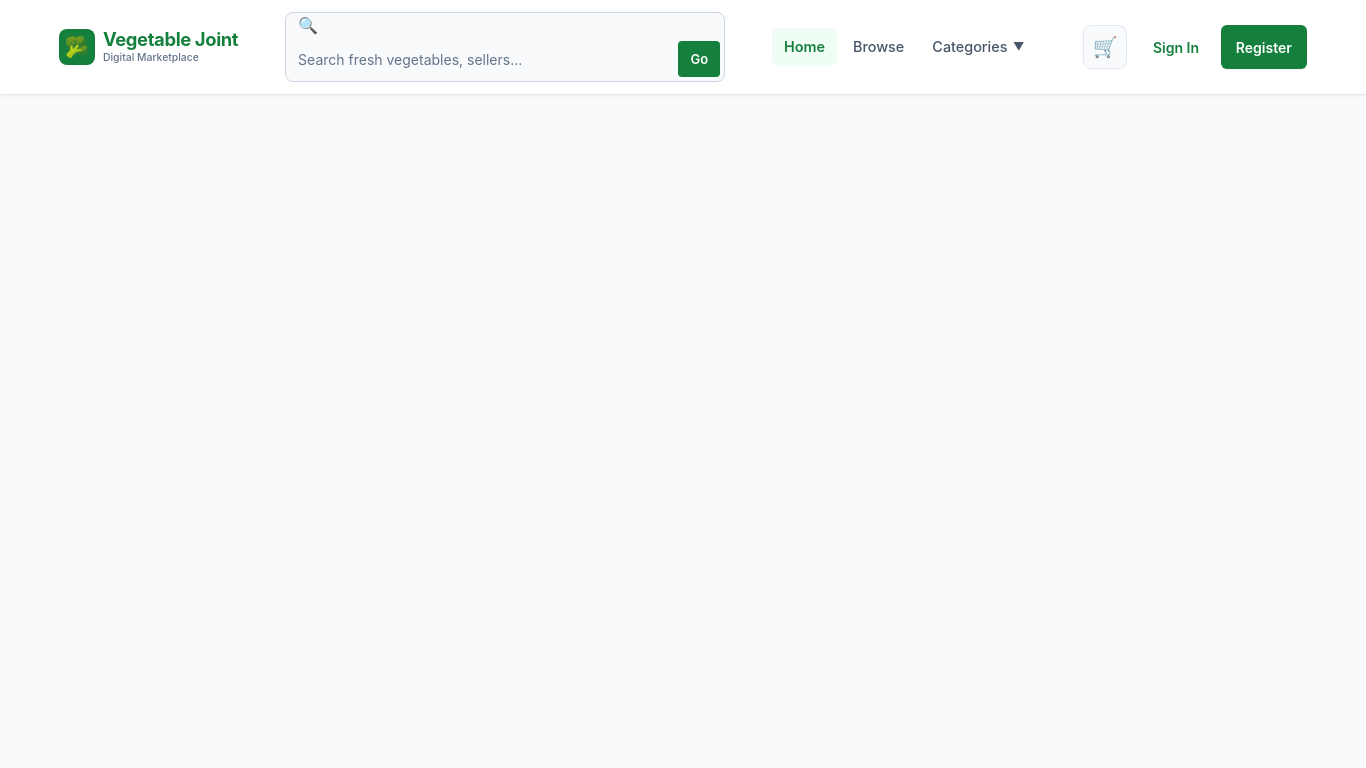
Test case: Navbar Component (FE-022, UI-01, UI-07, CART-07) › Brand, Navigation & Accessibility (UI-01) › toggles category dropdown on click and displays category items
Check: the text "Fresh Categories" is not shown
Click the button "Categories ▼" at (978, 47), box [920, 30, 1036, 64]
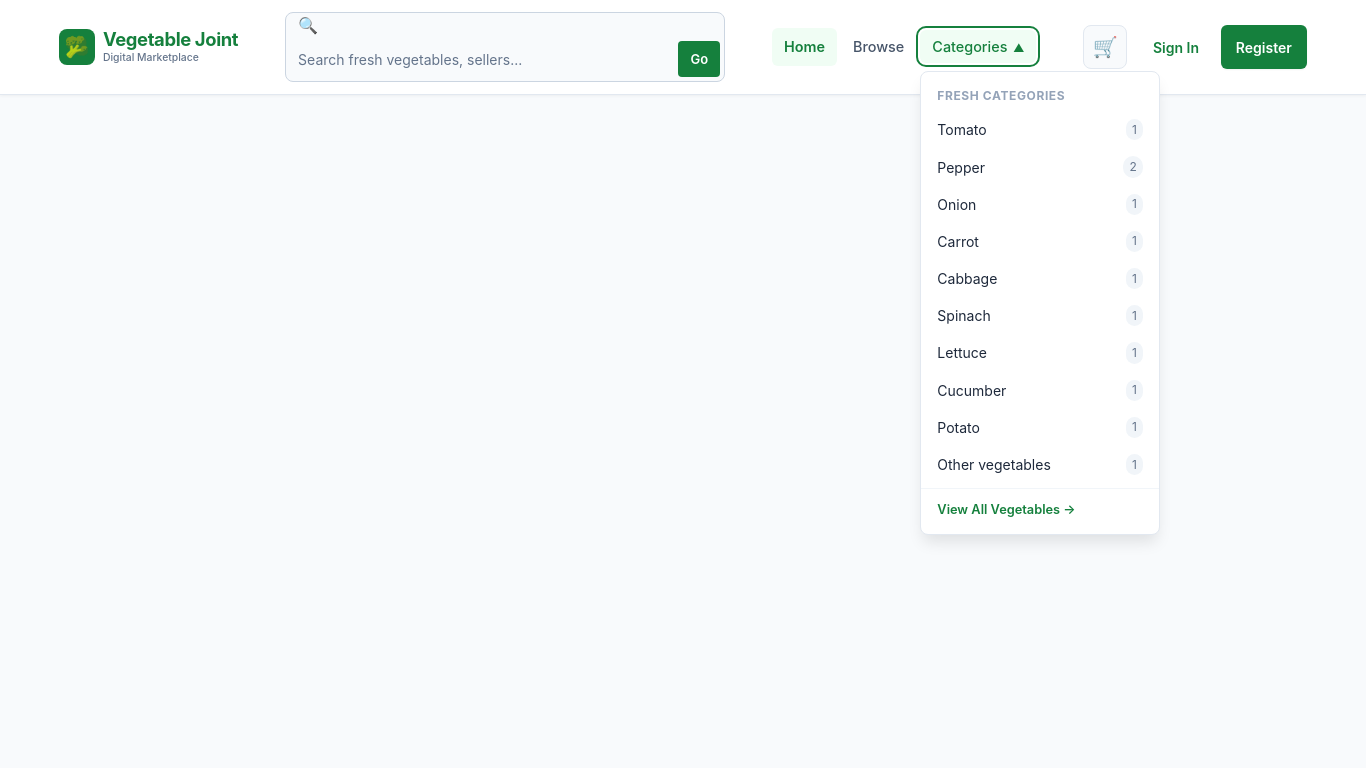
Check: the text "Fresh Categories" is shown, box [937, 88, 1065, 103]
Check: the text "Tomato" is shown, box [937, 119, 987, 140]
Check: the text "Pepper" is shown, box [937, 156, 985, 178]
// Click again closes the dropdown
Click the button "Categories ▼" at (978, 47), box [920, 30, 1036, 64]
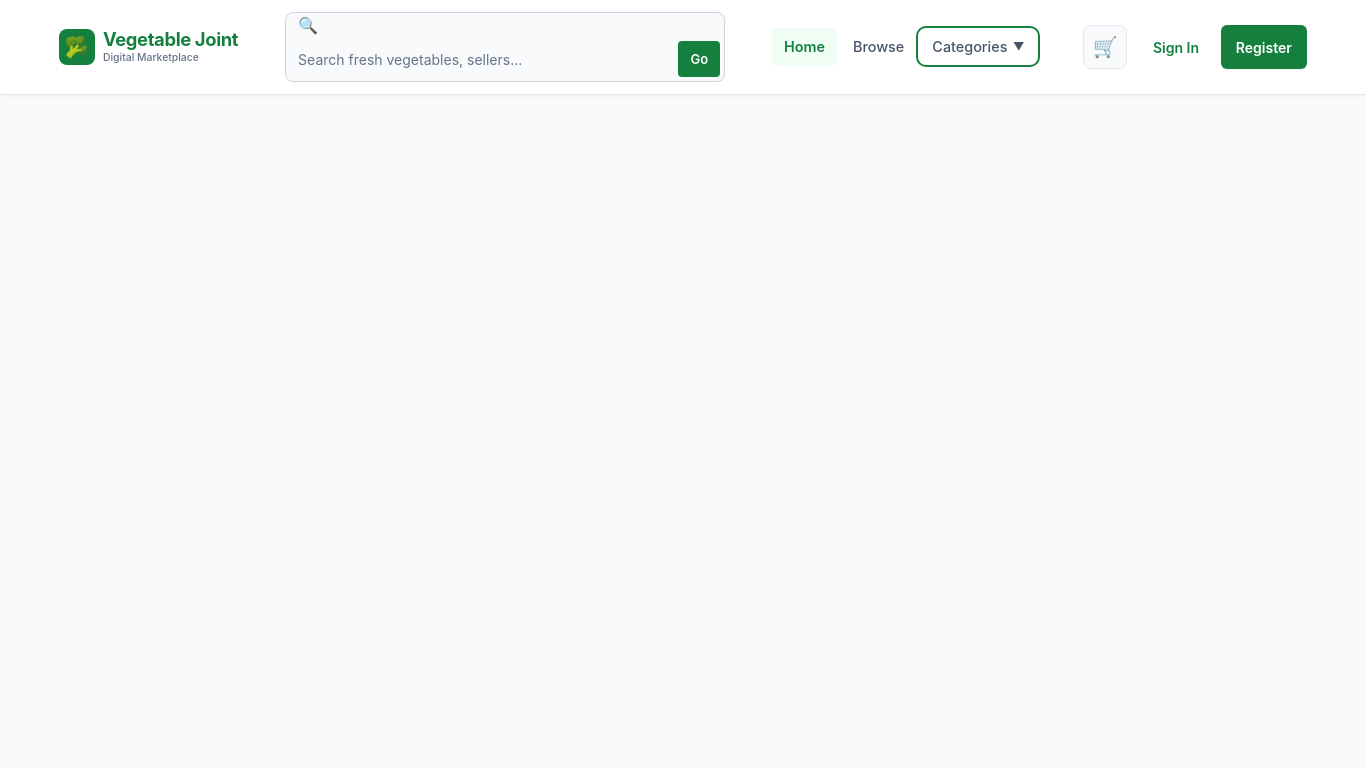
Check: the text "Fresh Categories" is gone
